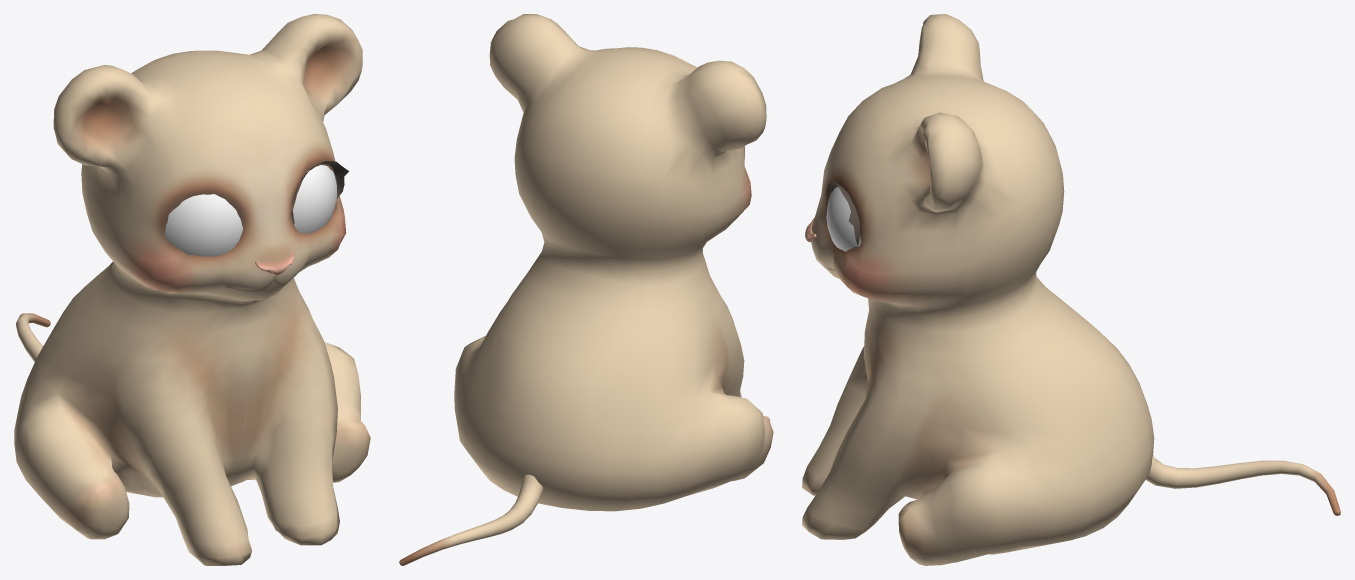
Rendered from lion.glb.
3 views of the same model, side by side, from view 1: azimuth 30°, elevation 25°; view 2: azimuth 150°, elevation 25°; view 3: azimuth 270°, elevation 25° (orthographic). The views are drawn at different scales.
Visible parts, largest first — view 1: Body, Right eye, Left eye, Tail, Lashes; view 2: Body, Tail; view 3: Body, Tail, Left eye.
Boxes of the visible parts, x1,y1,x2,y2 form: Body: (14,14,370,565); Right eye: (164,194,242,256); Left eye: (293,165,337,233); Tail: (16,313,50,361); Lashes: (291,161,348,224); Body: (454,14,773,511); Tail: (399,474,543,565); Body: (802,14,1154,565); Tail: (1145,454,1340,515); Left eye: (826,187,860,251).
Bounding box in the file's own units: 4.16 × 5.64 × 6.18.
Materials: 5 (3 with a texture image).
